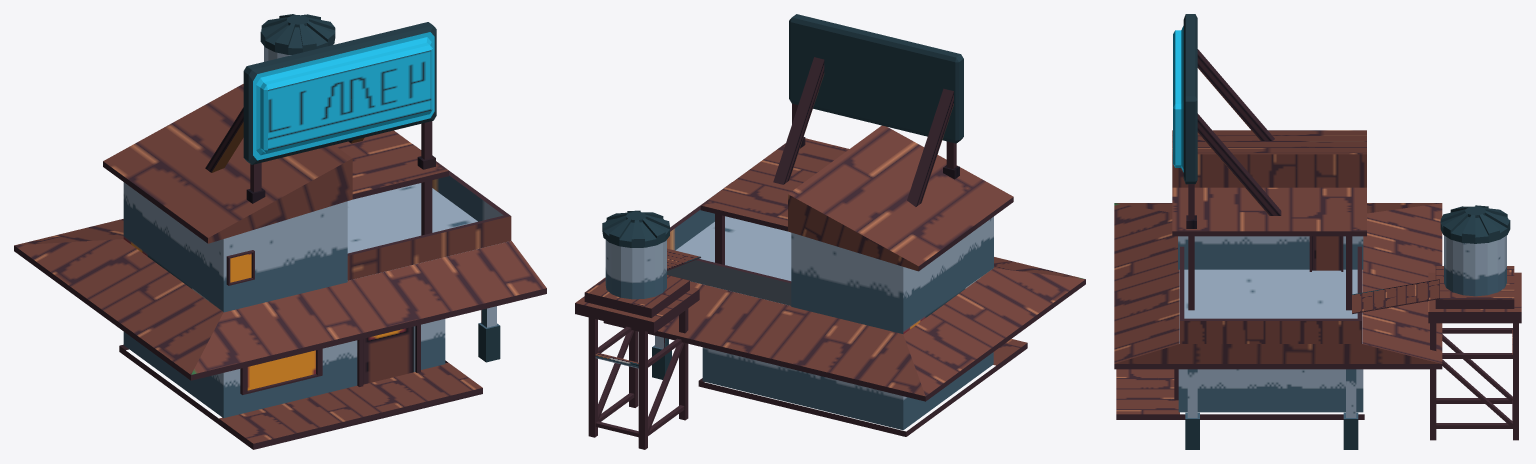
The model's file is Bar da Limey.v1.Anibal.2508.fbx.
3 views of the same model, side by side, from view 1: azimuth 30°, elevation 25°; view 2: azimuth 150°, elevation 25°; view 3: azimuth 270°, elevation 25° (orthographic). The views are drawn at different scales.
Parts seen in each view (by area): view 1: Bar da Limey; view 2: Bar da Limey; view 3: Bar da Limey.
Boxes of the visible parts, <box> form: Bar da Limey: <box>14,14,546,449</box>; Bar da Limey: <box>575,14,1085,449</box>; Bar da Limey: <box>1114,14,1521,449</box>.
Bounding box in the file's own units: 1204 × 1288 × 1130.
